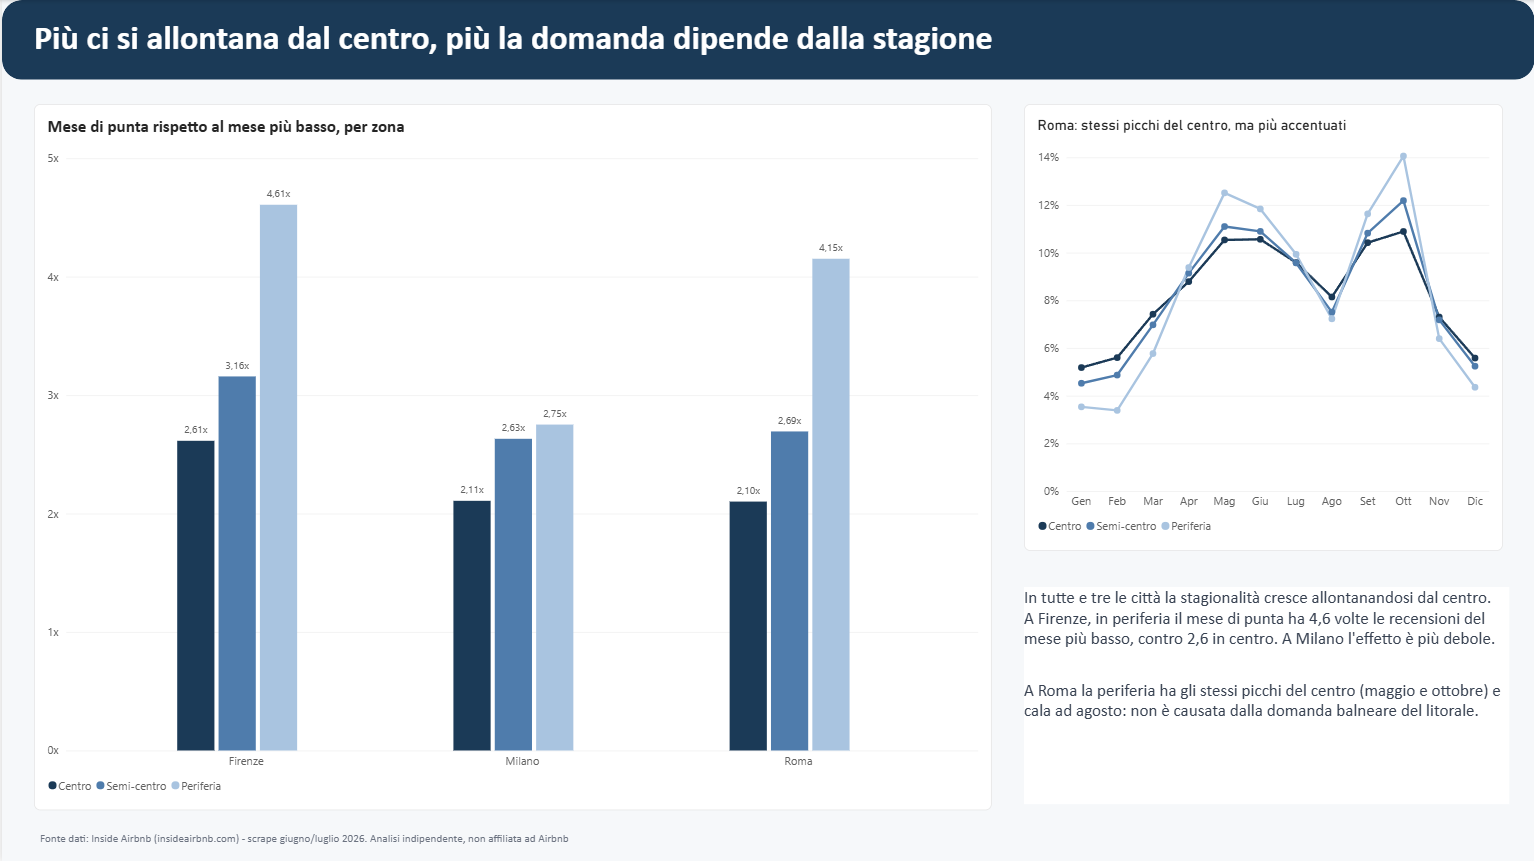

The page's visual inventory and layout, read from the dashboard file:
{"tool":"powerbi","page":{"name":"Periferia e stagione","canvas":[1920,1080],"ordinal":4},"visuals":[{"type":"clusteredColumnChart","title":"Mese di punta rispetto al mese più basso, per zona","fields":{"Category":["listings_totale.city"],"Series":["listings_totale.zona"],"Y":["_Measures.Seasonality Ratio"]},"box":[40,130,1200,885],"z":0},{"type":"shape","box":[0,0,1920,100],"z":1000},{"type":"textbox","box":[40,20,1840,60],"z":2000},{"type":"textbox","box":[48,1040,1200,32],"z":3000},{"type":"textbox","box":[1280,736,608,272],"z":4000},{"type":"lineChart","title":"Roma: stessi picchi del centro, ma più accentuati","fields":{"Category":["Calendar.Month Name"],"Series":["listings_totale.zona"],"Y":["_Measures.Review Share %"]},"box":[1280,130,600,560],"z":5000}]}

Visuals, with their boxes in screenshot pixels (x1, y1, x2, y2), scaled from the page's 1920x1080 canvas onto the 1534x861 screenshot:
"Mese di punta rispetto al mese più basso, per zona" clusteredColumnChart: [x1=32, y1=104, x2=991, y2=809]
shape: [x1=0, y1=0, x2=1533, y2=80]
textbox: [x1=32, y1=16, x2=1502, y2=64]
textbox: [x1=38, y1=829, x2=997, y2=855]
textbox: [x1=1023, y1=587, x2=1508, y2=804]
"Roma: stessi picchi del centro, ma più accentuati" lineChart: [x1=1023, y1=104, x2=1502, y2=550]
